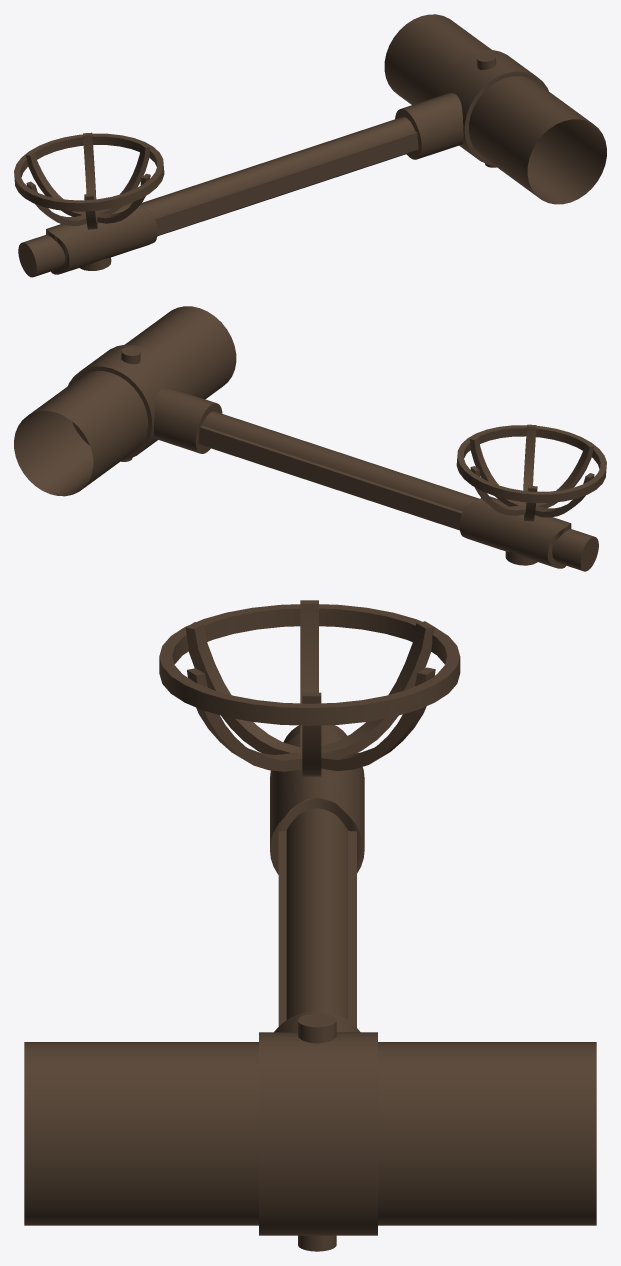
File: catapult_impact_part.obj
The picture shows the model from 3 angles, top to bottom: view 1: azimuth 30°, elevation 25°; view 2: azimuth 150°, elevation 25°; view 3: azimuth 270°, elevation 25°; orthographic projection. The views are drawn at different scales.
Parts seen in each view (by area): view 1: catapult_impact_part; view 2: catapult_impact_part; view 3: catapult_impact_part.
Boxes of the visible parts, x1,y1,x2,y2 form: catapult_impact_part: (14,14,606,277); catapult_impact_part: (14,306,606,571); catapult_impact_part: (24,600,596,1251).
Size of the model in its own units: 2996 by 624 by 1439.
